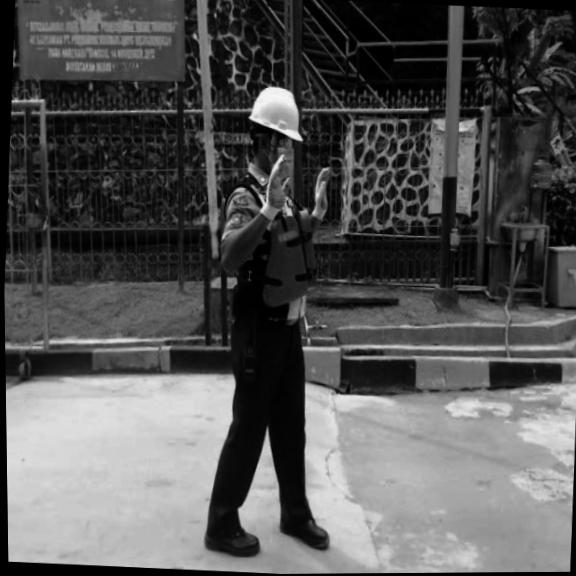safety_vest: (259, 207, 320, 311)
